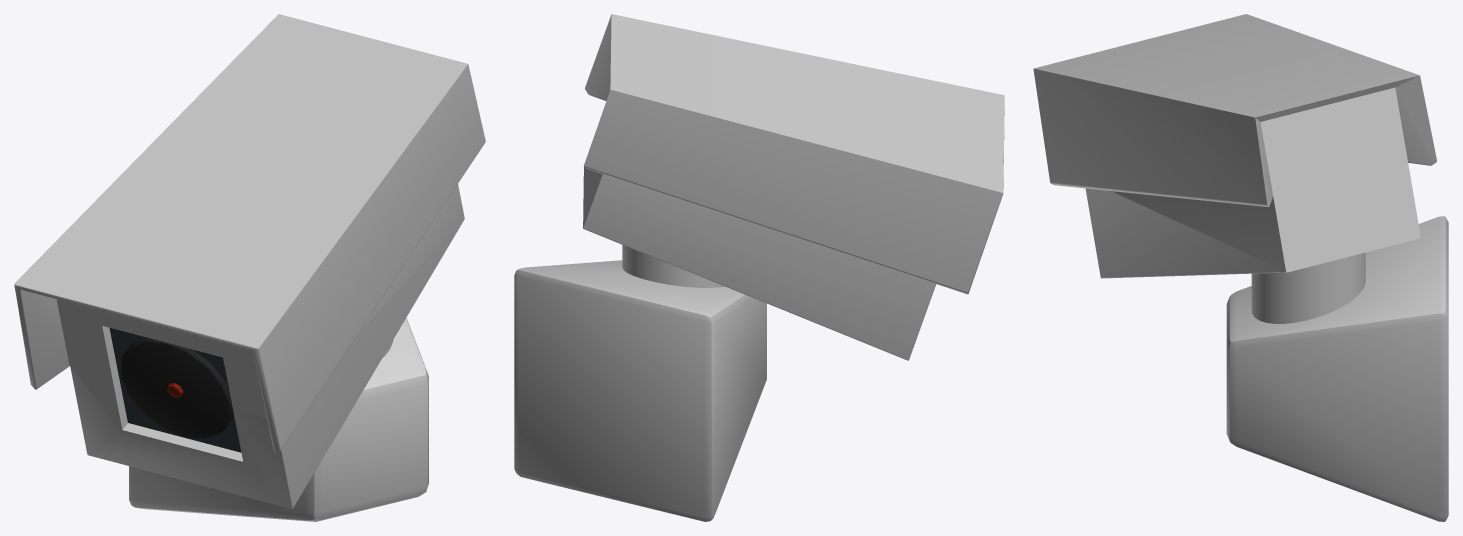
The model's file is cctv.fbx.
3 renders of one model, left to right at view 1: azimuth 30°, elevation 25°; view 2: azimuth 150°, elevation 25°; view 3: azimuth 270°, elevation 25°, orthographic. The views are drawn at different scales.
Visible parts, largest first — view 1: CCTV; view 2: CCTV; view 3: CCTV.
Boxes of the visible parts, x1,y1,x2,y2 form: CCTV: [14, 14, 485, 521]; CCTV: [514, 14, 1004, 521]; CCTV: [1033, 14, 1448, 521].
Size of the model in its own units: 274 by 255 by 235.
